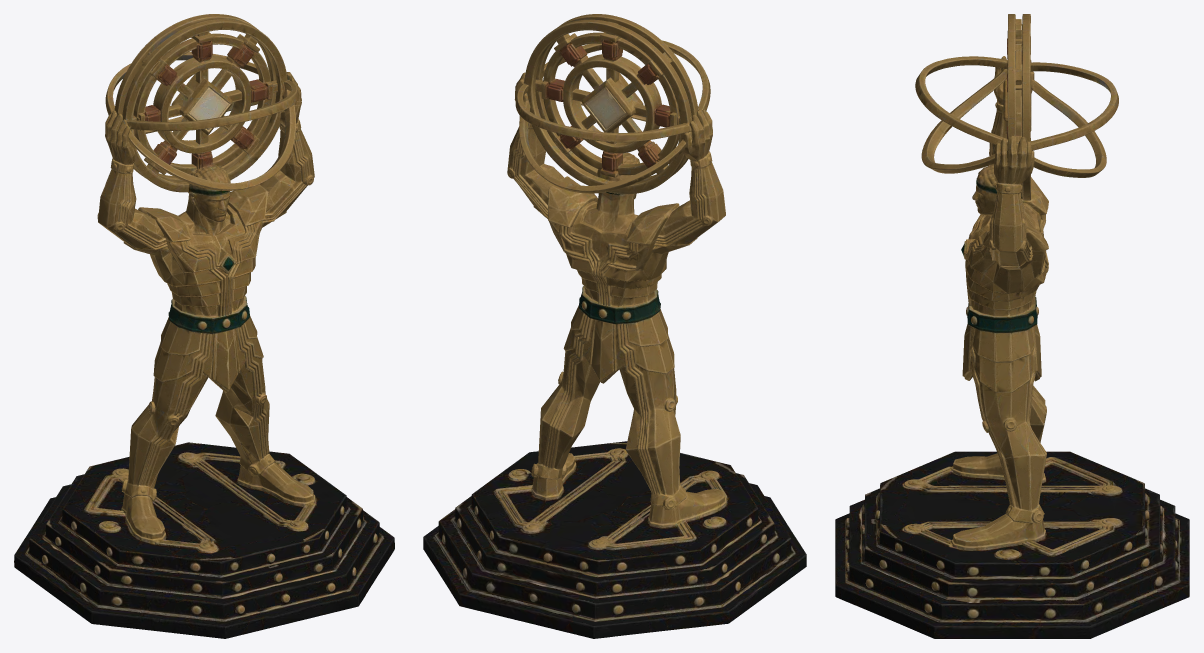
File: power.glb
The picture shows the model from 3 angles, left to right: view 1: azimuth 30°, elevation 25°; view 2: azimuth 150°, elevation 25°; view 3: azimuth 270°, elevation 25°; orthographic projection.
Bounding box in the file's own units: 1.13 × 1.9 × 1.13.
1 material, 1 textured.
